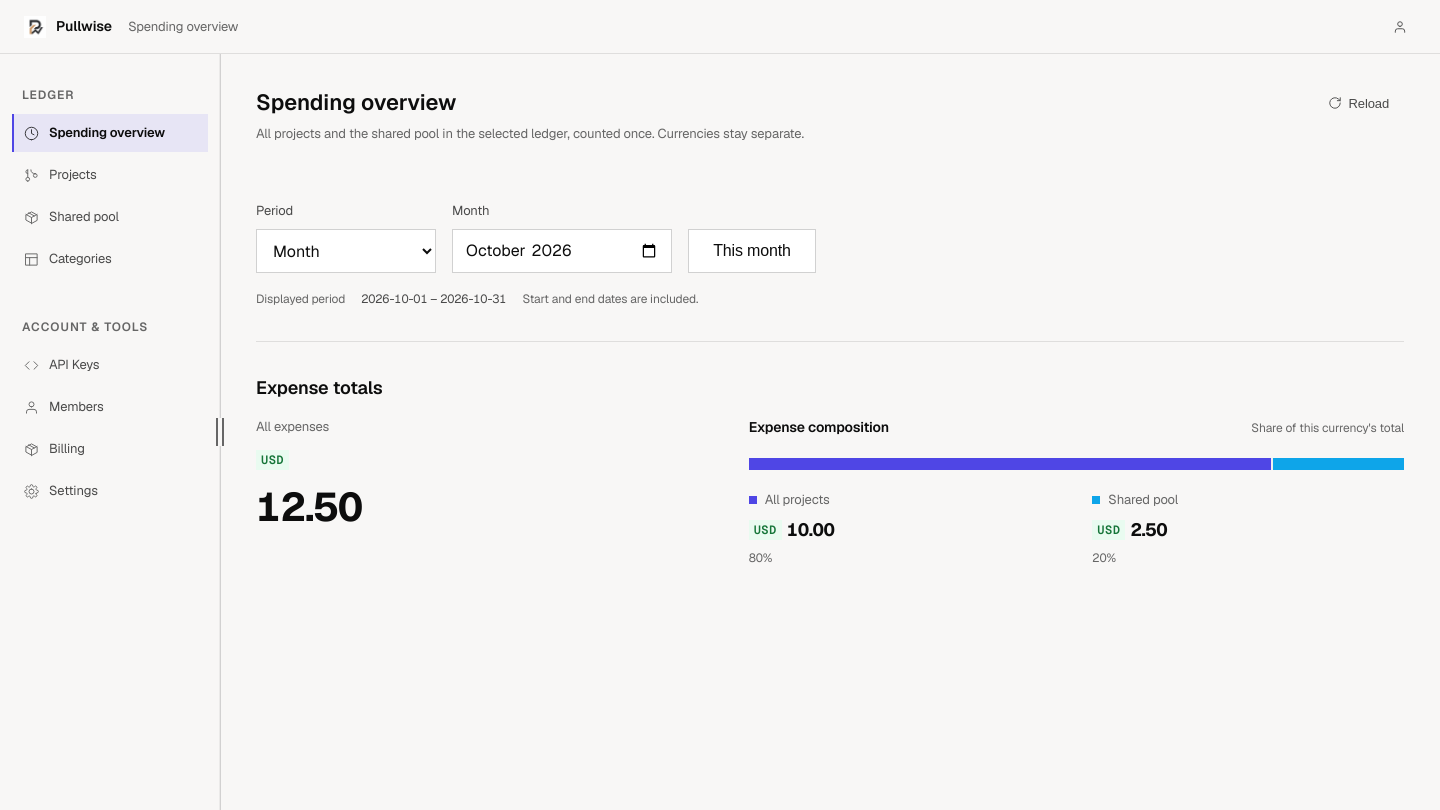
Test: Spending overview › selects any month or inclusive custom dates and rejects invalid ranges before requesting
Check: the heading "Expense totals" is shown, box [256,374,383,401]
Replace the text in the field labelled "Month" with "2028-02". click: x=562, y=251
box: [452,229,672,273]
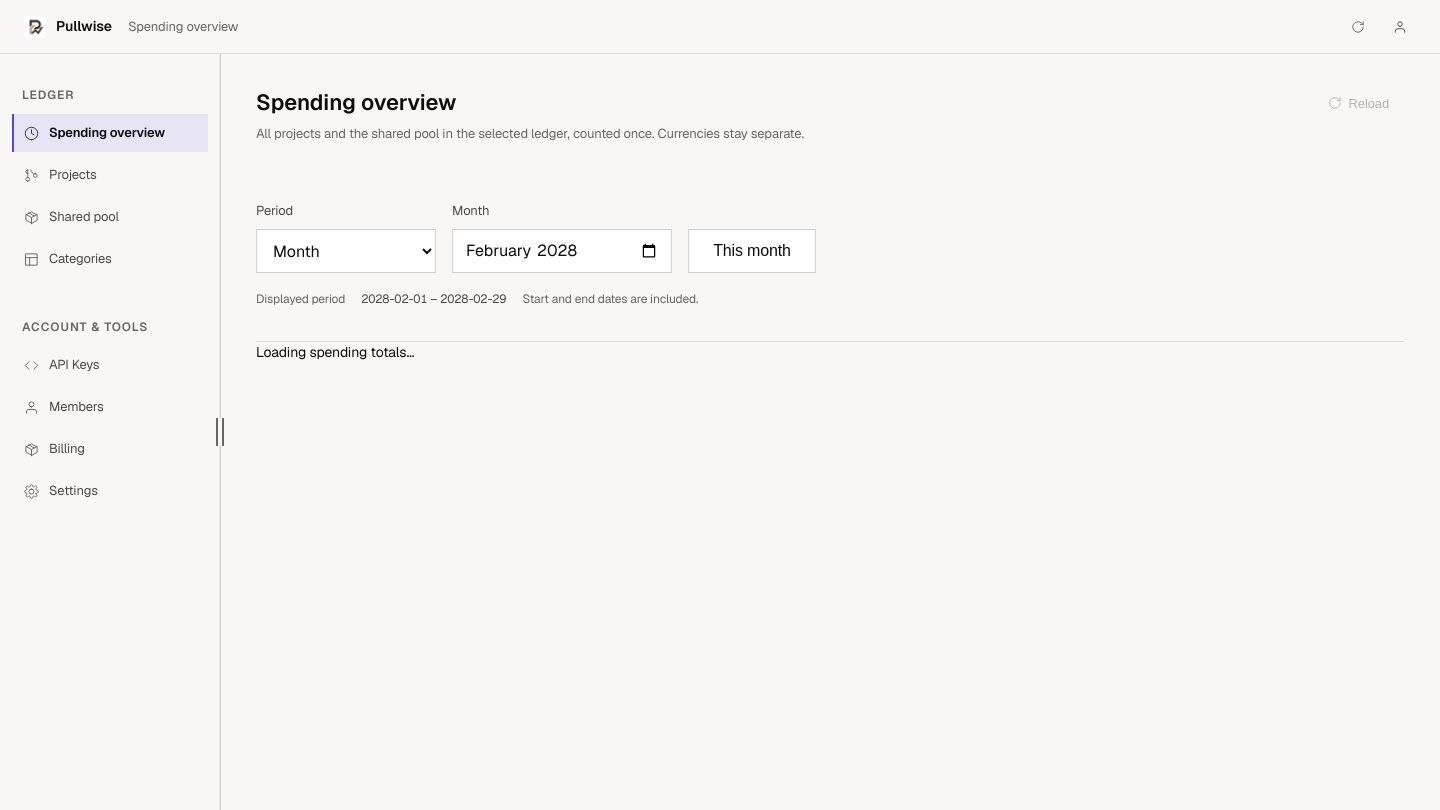
Select "Custom dates" in the dropdown labelled "Period". click: x=346, y=251
box: [256,229,436,273]
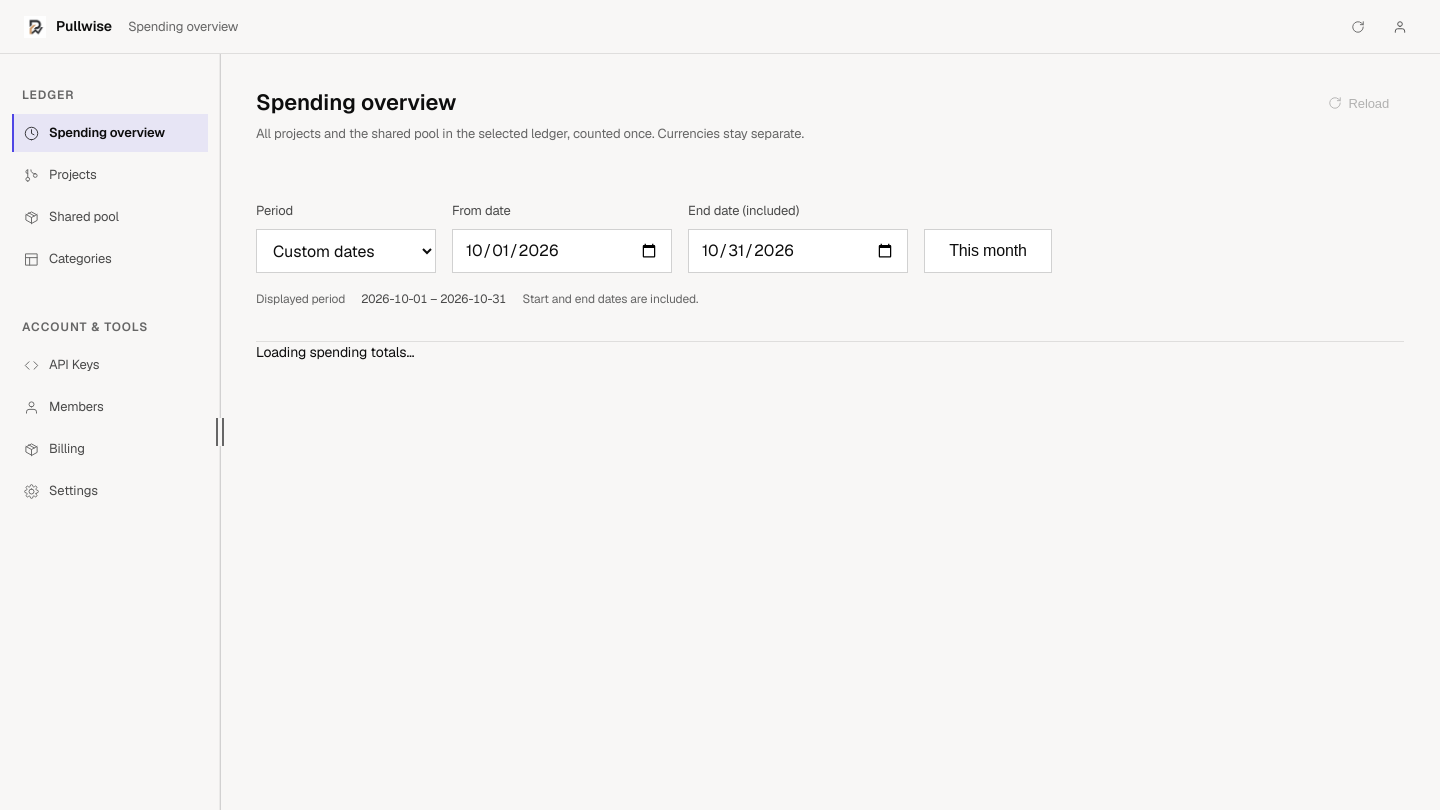
Type "2026-10-10" into the date field labelled "From date". click: x=562, y=251
box: [452,229,672,273]
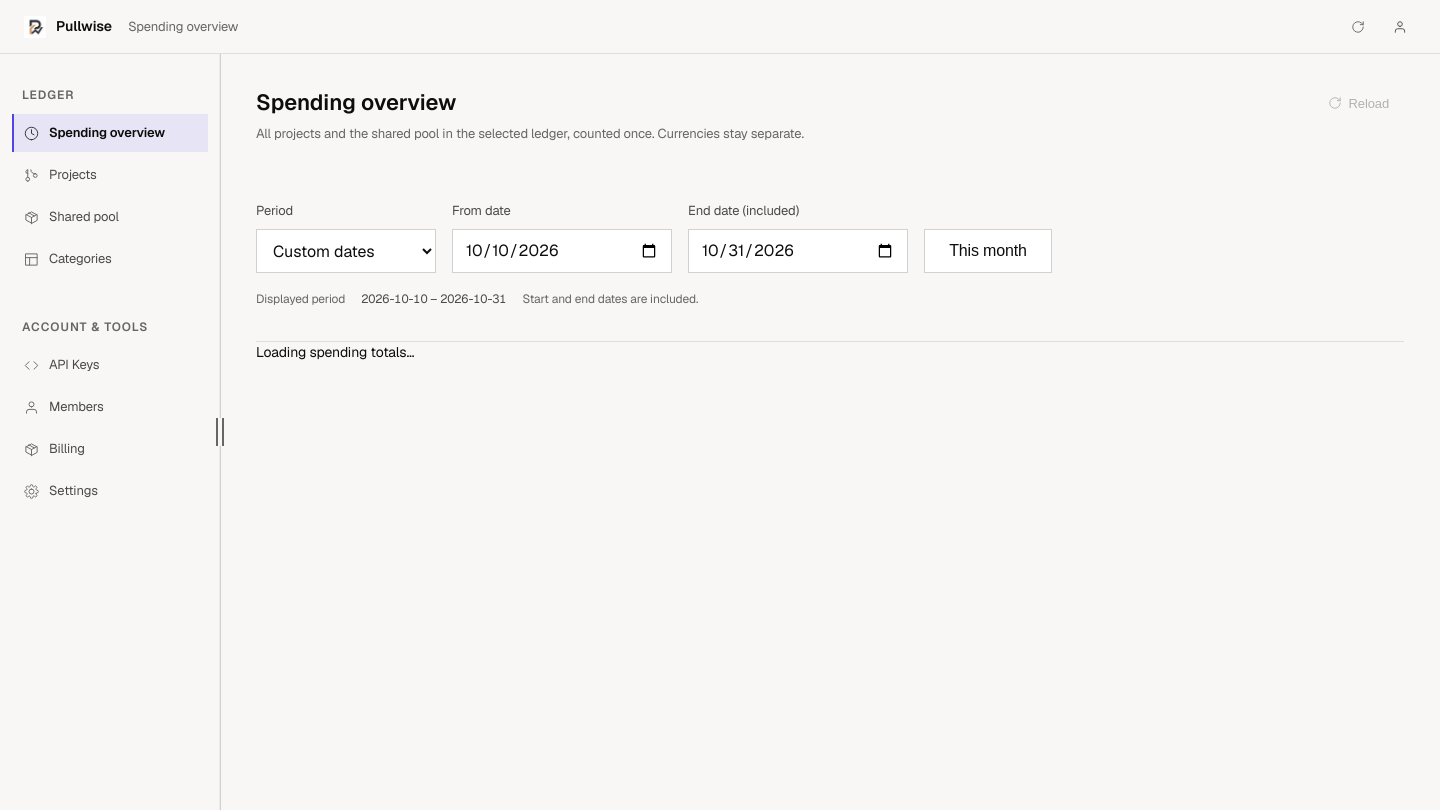
Type "2026-10-10" into the date field labelled "End date (included)". click: x=798, y=251
box: [688,229,908,273]
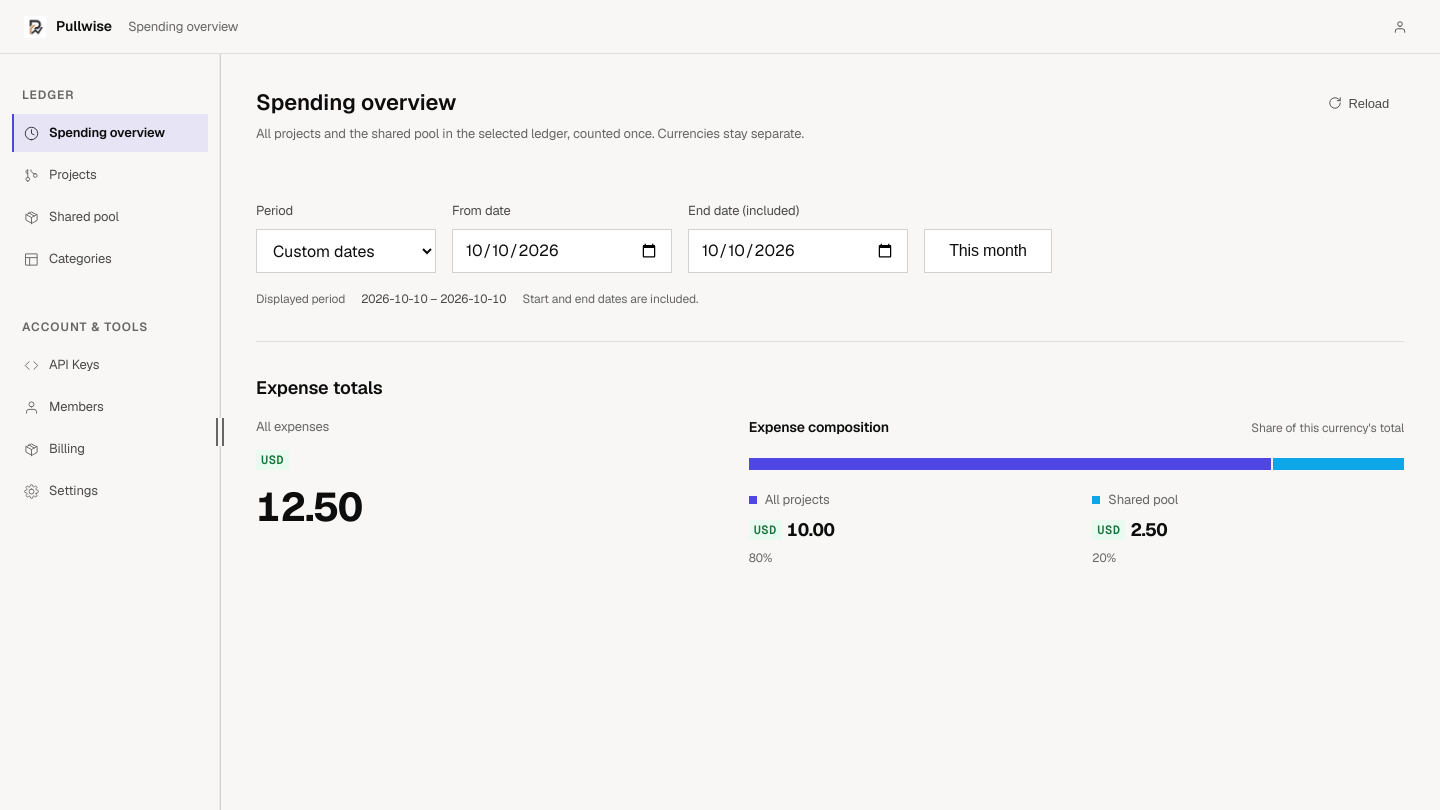
Type "2026-10-09" into the date field labelled "End date (included)". click: x=798, y=251
box: [688,229,908,273]
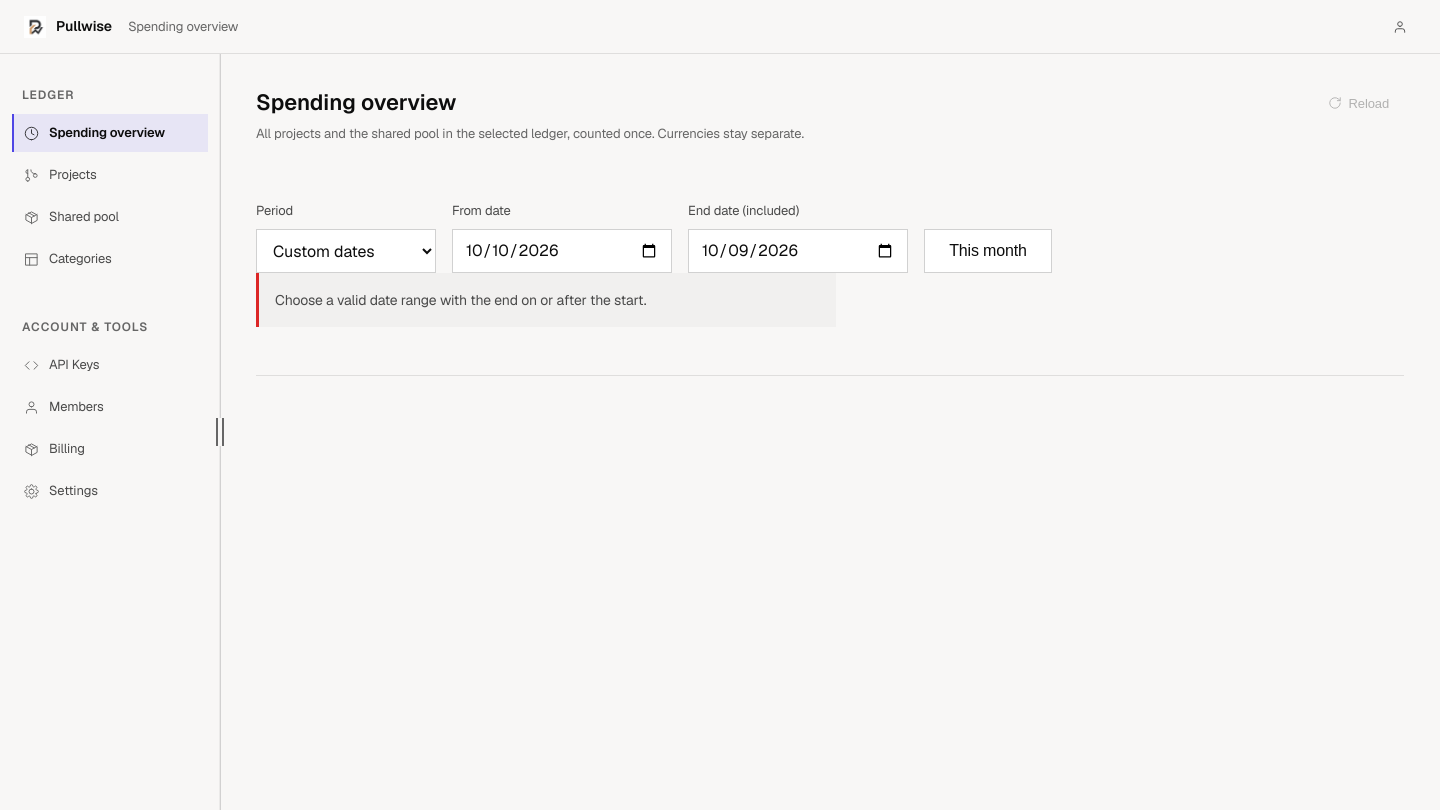
Check: the text "Choose a valid date range with the end on or after the start." is shown, box [256,273,836,327]
Check: the heading "Expense totals" is gone
Click the button "This month". click: x=988, y=251
box: [924,229,1052,273]
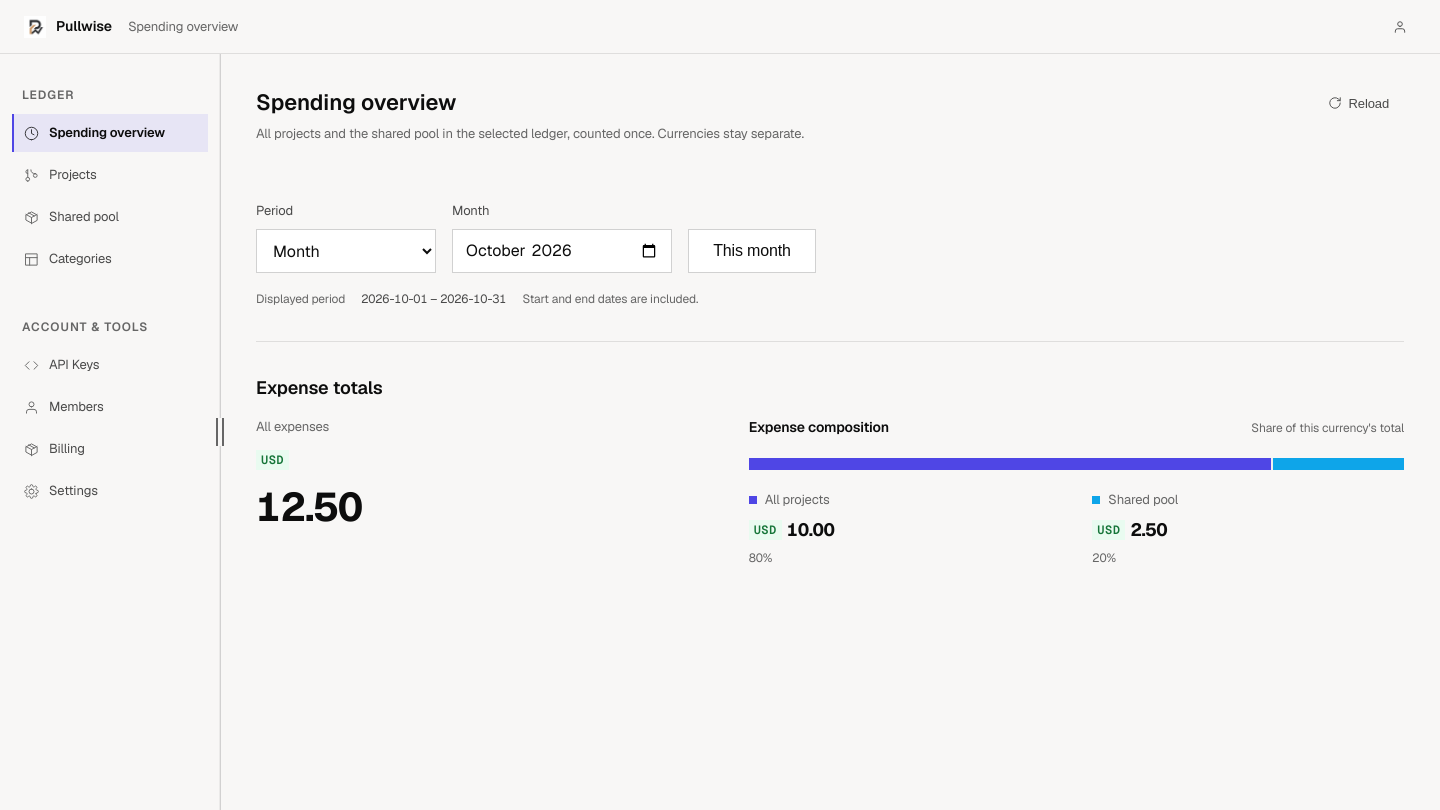
Check: the heading "Expense totals" is shown, box [256,374,383,401]
